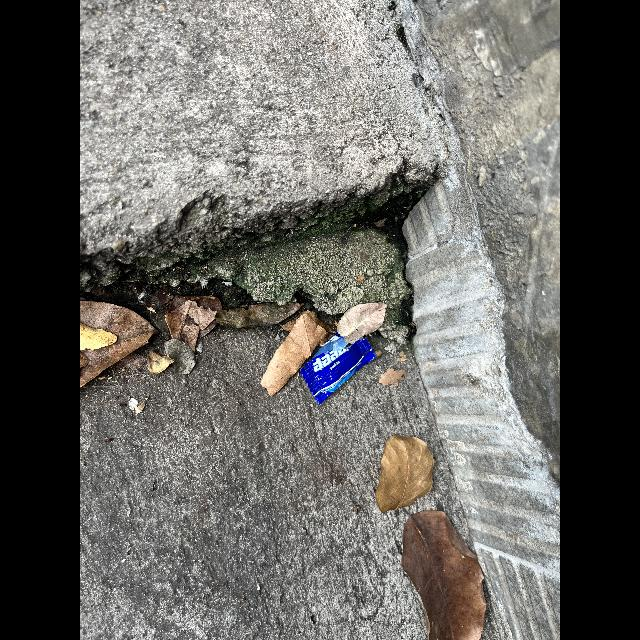scrap_plastic: (300, 322, 378, 412)
